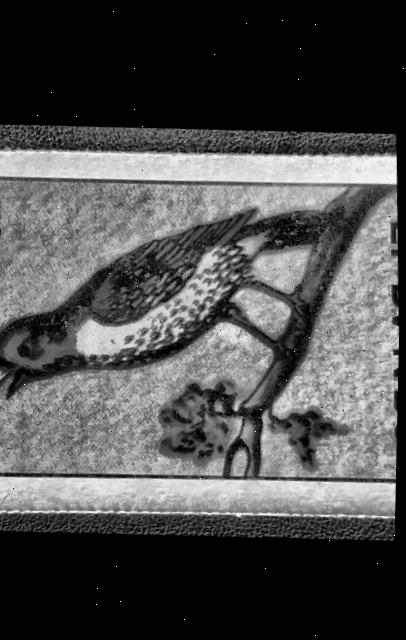El Pajaro: (0, 151, 403, 503)
